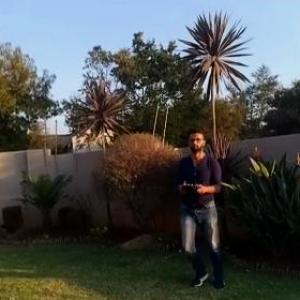follow: (165, 129, 240, 299)
